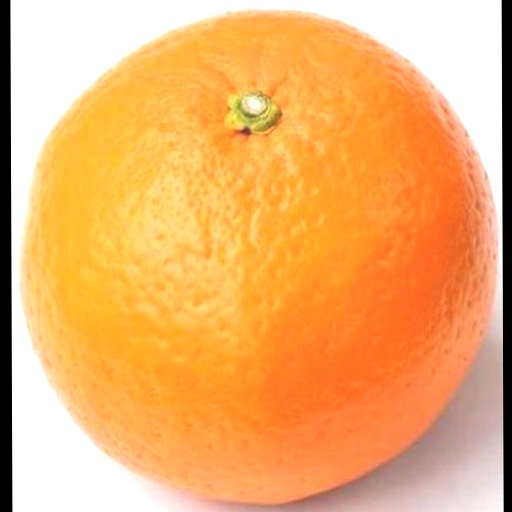fruit: (20, 11, 495, 502)
